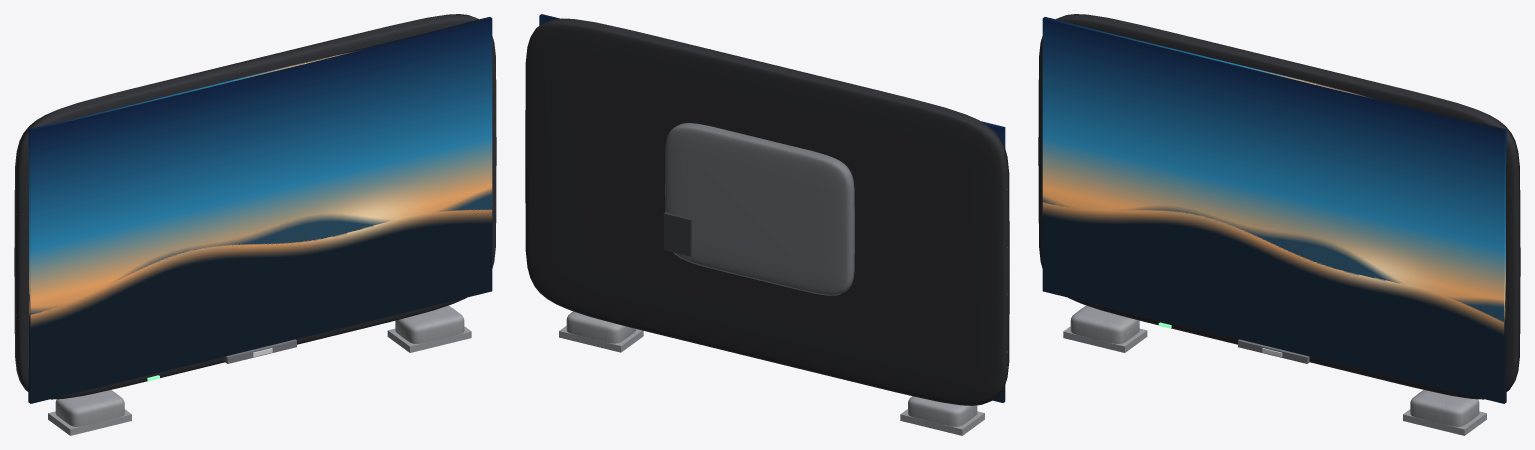
The model's file is smart-tv.glb.
3 views of the same model, side by side, from view 1: azimuth 30°, elevation 25°; view 2: azimuth 150°, elevation 25°; view 3: azimuth 330°, elevation 25° (orthographic).
Visible parts, largest first — view 1: screen, panel, foot (×2), foot-bar (×2), bezel-bottom; view 2: panel, back-hump, foot (×2), foot-bar (×2), back-ports; view 3: screen, panel, foot (×2), foot-bar (×2), bezel-bottom.
Part boxes in pixels (box(x1,y1,x2,y2)): screen: box(28, 17, 492, 403); panel: box(14, 14, 496, 399); foot (×2): box(55, 305, 464, 426); foot-bar (×2): box(48, 326, 471, 435); bezel-bottom: box(225, 339, 296, 363); panel: box(525, 18, 1009, 405); back-hump: box(665, 123, 854, 295); foot (×2): box(566, 311, 977, 426); foot-bar (×2): box(559, 326, 984, 435); back-ports: box(663, 212, 692, 256); screen: box(1042, 17, 1506, 403); panel: box(1038, 14, 1520, 399); foot (×2): box(1070, 305, 1479, 426); foot-bar (×2): box(1063, 326, 1486, 435); bezel-bottom: box(1238, 339, 1309, 363).
Size of the model in its own units: 1.24 by 0.78 by 0.127.
7 materials, 2 textured.
